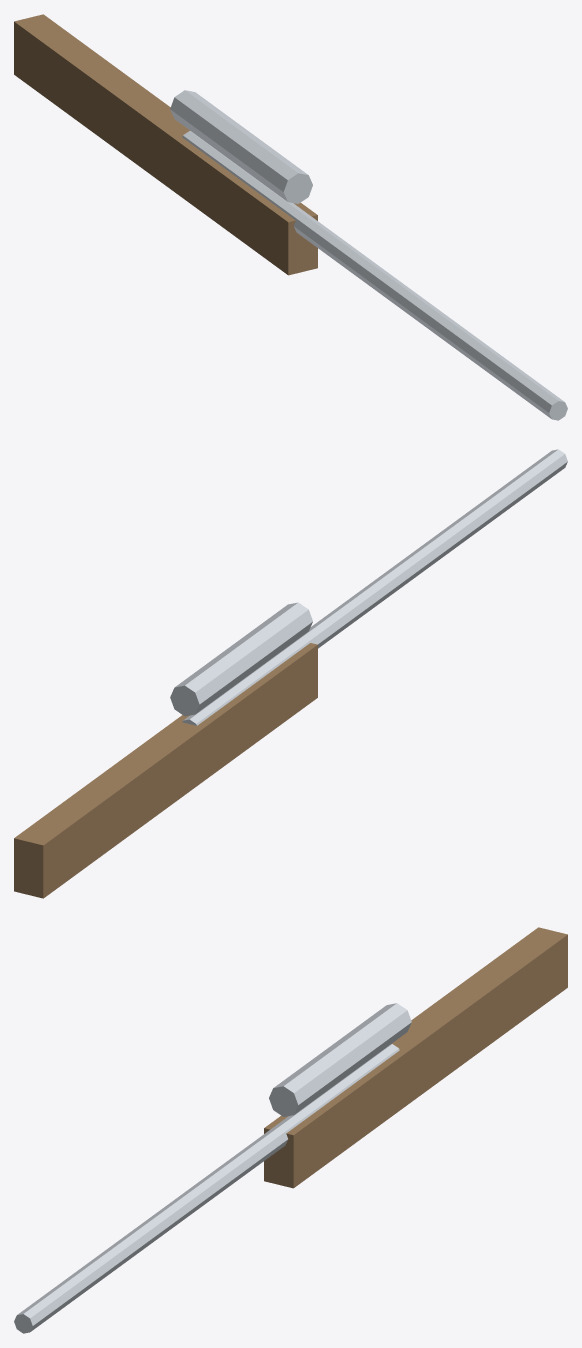
File: SM_BoltActionRifle.fbx
3 renders of one model, top to bottom at view 1: azimuth 30°, elevation 25°; view 2: azimuth 150°, elevation 25°; view 3: azimuth 330°, elevation 25°, orthographic.
Visible parts, largest first — view 1: SM_BoltActionRifle; view 2: SM_BoltActionRifle; view 3: SM_BoltActionRifle.
Part boxes in pixels (x1,y1,x2,y2): SM_BoltActionRifle: (14,14,567,420); SM_BoltActionRifle: (14,449,567,898); SM_BoltActionRifle: (14,927,567,1333).
Bounding box in the file's own units: 360 × 11200 × 1110.
